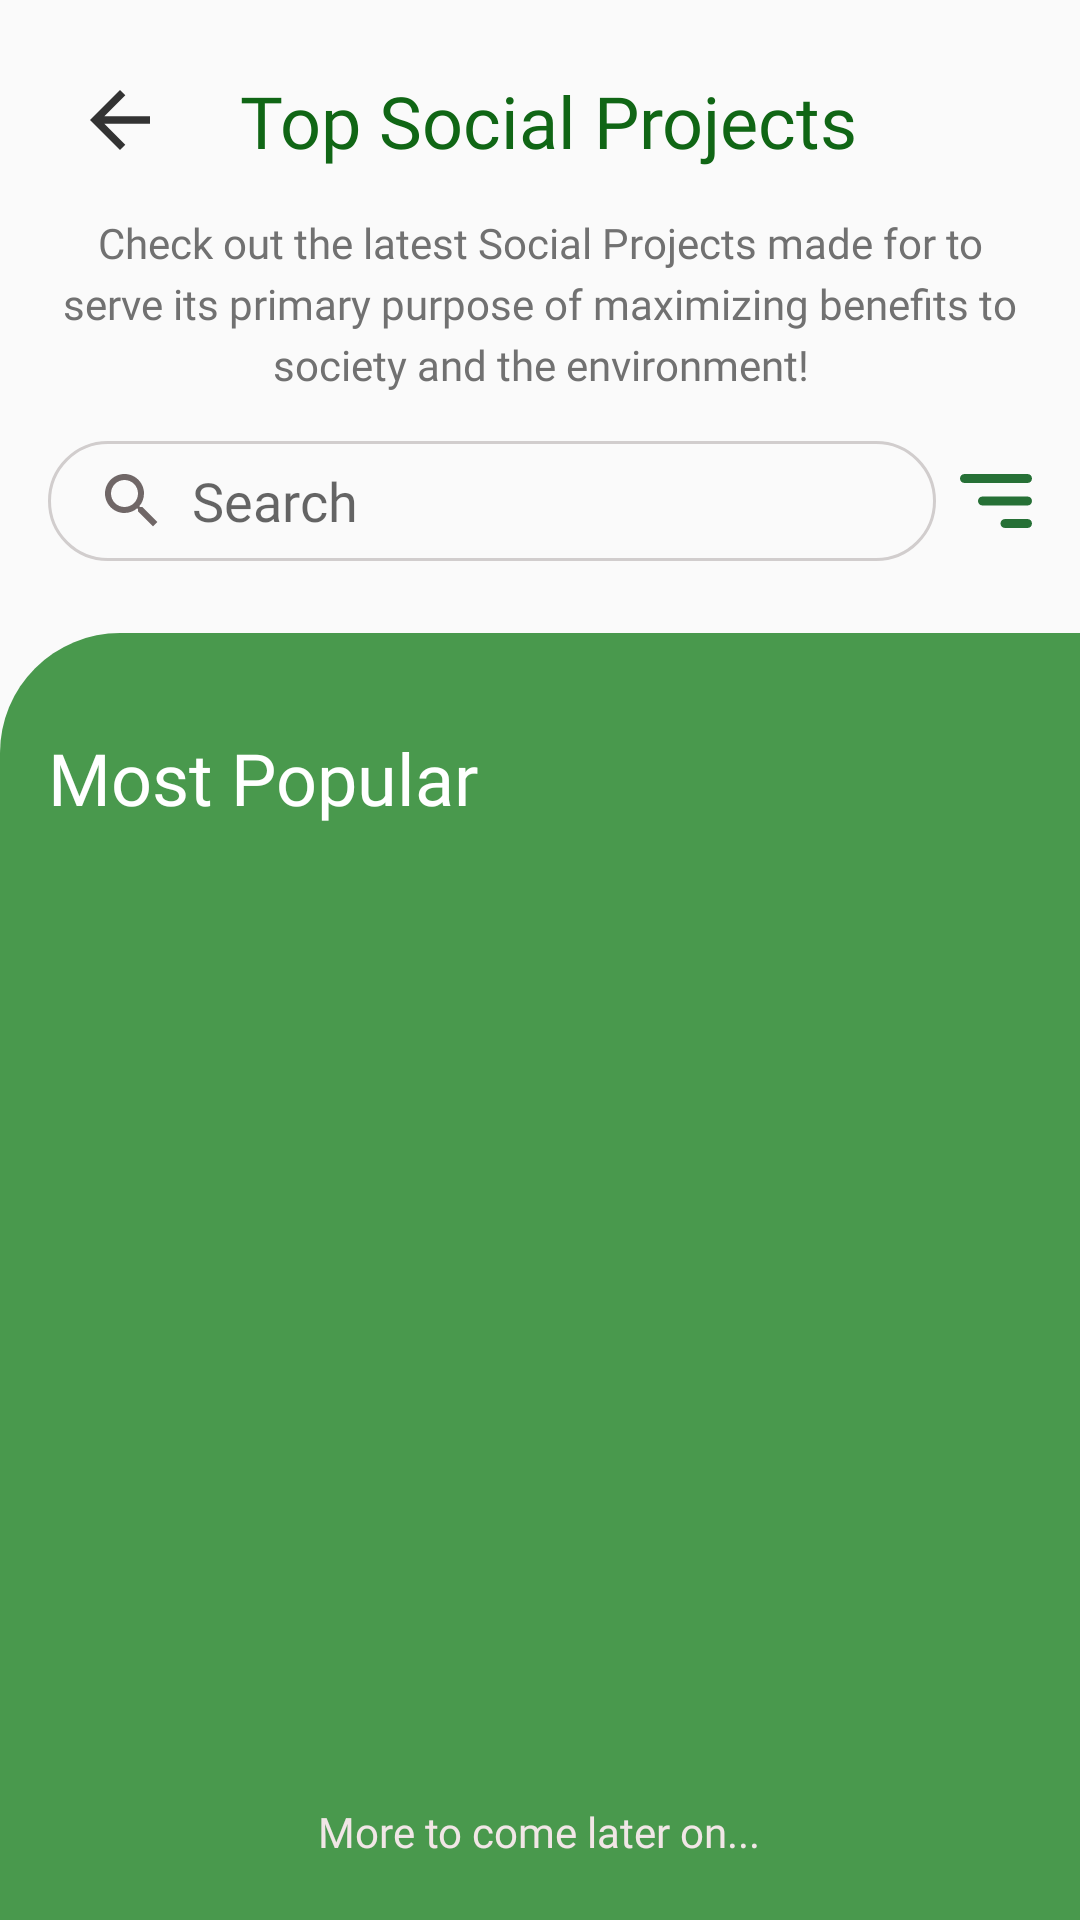

Icon click points for this 1080px x 1920px phone screenshot, format (x,y):
arrow back: (120,120)
short: (996,501)
